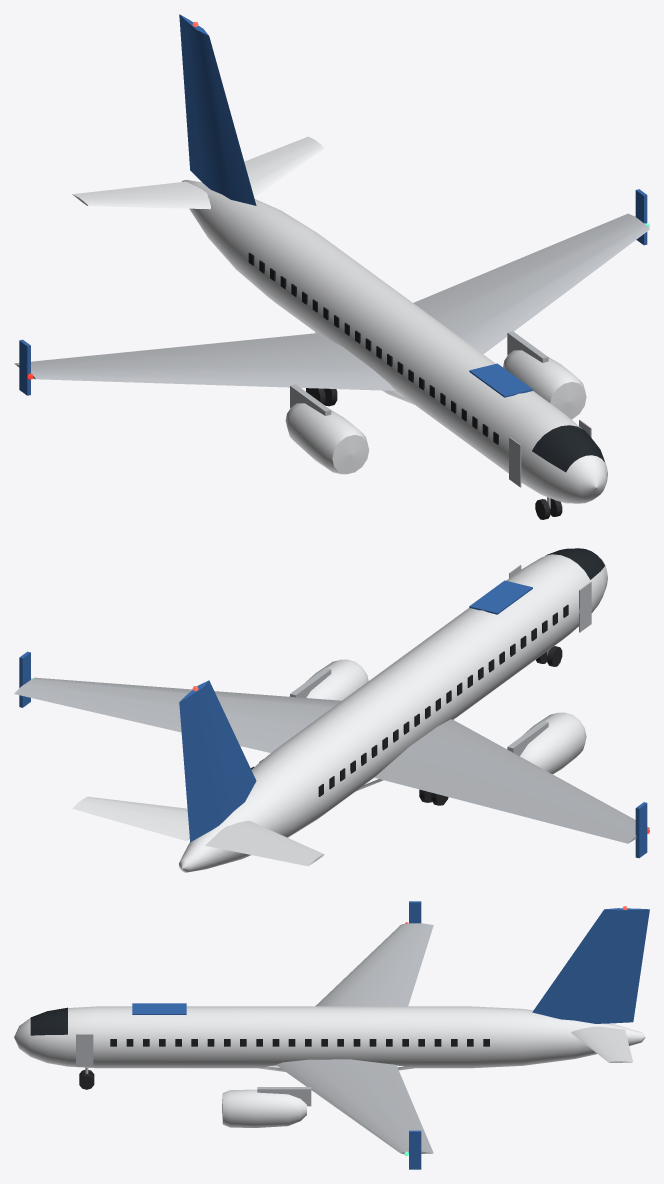
3 views of the same model, one above another, from view 1: azimuth 30°, elevation 25°; view 2: azimuth 150°, elevation 25°; view 3: azimuth 270°, elevation 25° (orthographic). The views are drawn at different scales.
Parts seen in each view (by area): view 1: plane; view 2: plane; view 3: plane.
Part boxes in pixels (<box>): plane: <box>14,14,649,519</box>; plane: <box>14,548,649,872</box>; plane: <box>14,901,649,1169</box>.
Bounding box in the file's own units: 1.19 × 0.4316 × 1.38.
